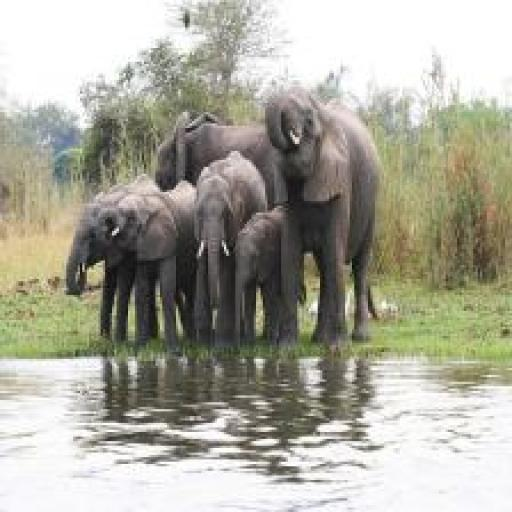Elephant: (265, 84, 384, 348), (98, 180, 199, 351), (64, 171, 160, 344), (192, 151, 269, 351), (153, 110, 288, 215), (236, 206, 308, 355)
